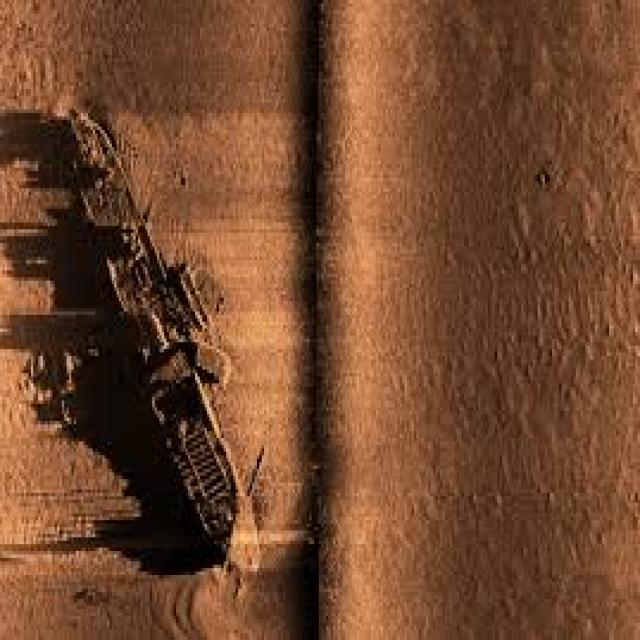ship: (57, 103, 262, 572)
